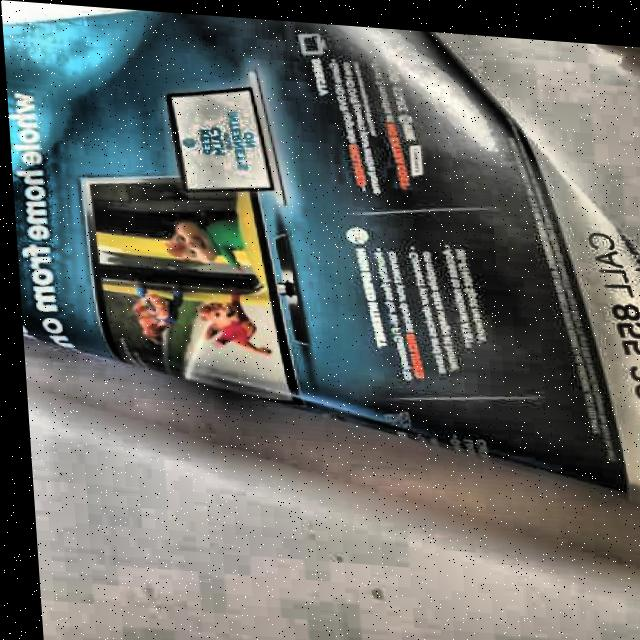paper: (0, 0, 640, 513)
